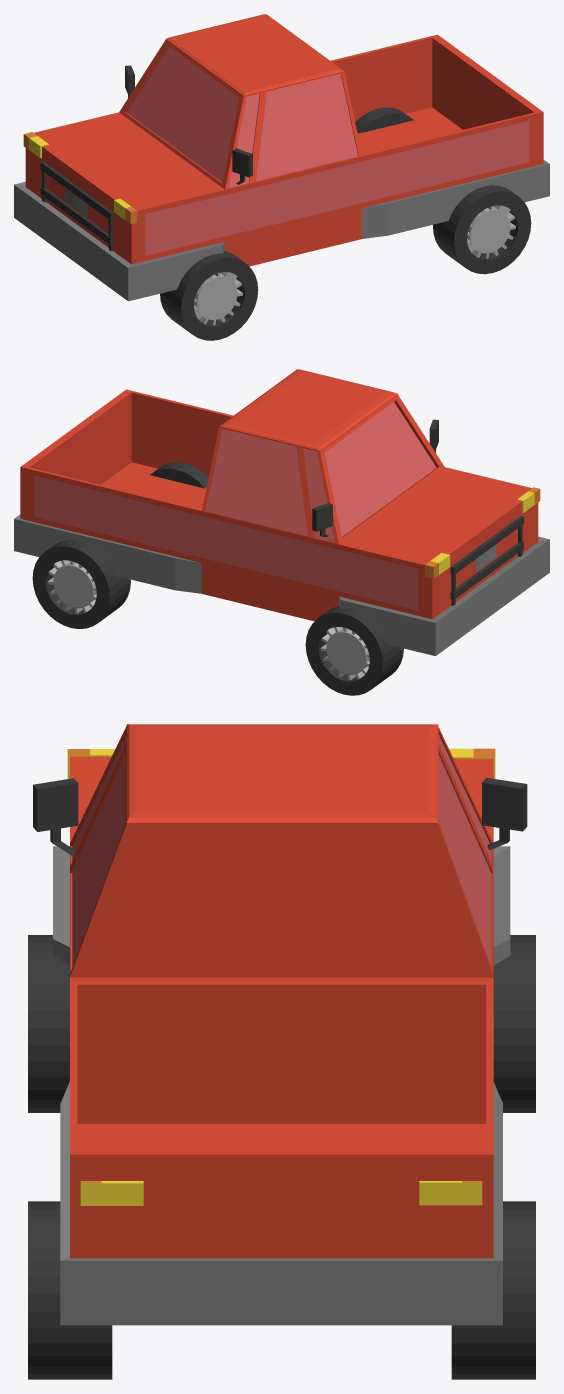
The model's file is Truck Red.fbx.
3 views of the same model, one above another, from view 1: azimuth 30°, elevation 25°; view 2: azimuth 150°, elevation 25°; view 3: azimuth 270°, elevation 25° (orthographic). The views are drawn at different scales.
Parts seen in each view (by area): view 1: Truck Body, Tire.020, Tire.018, Spoke.019, Spoke.016, Pull Bar, Tire.021, Mirror.001, Front Light.008; view 2: Truck Body, Tire.021, Tire.019, Spoke.018, Spoke.020, Pull Bar, Tire.020, Mirror, Light Front.008; view 3: Truck Body, Tire.020, Tire.021, Tire.019, Tire.018, Mirror.001, Mirror, Front Light.009, Light Front.009.
Part boxes in pixels (left/top/right/bottom): Truck Body: left=14, top=14, right=549, bottom=301; Tire.020: left=433, top=185, right=531, bottom=274; Tire.018: left=160, top=251, right=258, bottom=340; Spoke.019: left=467, top=205, right=515, bottom=258; Spoke.016: left=194, top=272, right=242, bottom=325; Pull Bar: left=40, top=161, right=113, bottom=251; Tire.021: left=355, top=107, right=413, bottom=133; Mirror.001: left=232, top=148, right=252, bottom=184; Front Light.008: left=114, top=198, right=137, bottom=224; Truck Body: left=14, top=369, right=549, bottom=655; Tire.021: left=32, top=540, right=130, bottom=628; Tire.019: left=305, top=606, right=403, bottom=695; Spoke.018: left=320, top=627, right=369, bottom=680; Spoke.020: left=47, top=560, right=96, bottom=613; Pull Bar: left=450, top=516, right=523, bottom=605; Tire.020: left=150, top=462, right=208, bottom=488; Mirror: left=312, top=503, right=332, bottom=536; Light Front.008: left=425, top=552, right=450, bottom=578; Truck Body: left=53, top=724, right=510, bottom=1325; Tire.020: left=28, top=1201, right=112, bottom=1379; Tire.021: left=451, top=1201, right=535, bottom=1379; Tire.019: left=493, top=935, right=535, bottom=1112; Tire.018: left=28, top=935, right=69, bottom=1112; Mirror.001: left=33, top=778, right=78, bottom=855; Mirror: left=482, top=777, right=527, bottom=849; Front Light.009: left=80, top=1181, right=143, bottom=1205; Light Front.009: left=419, top=1181, right=482, bottom=1205.
Size of the model in its own units: 404 by 197 by 210.
